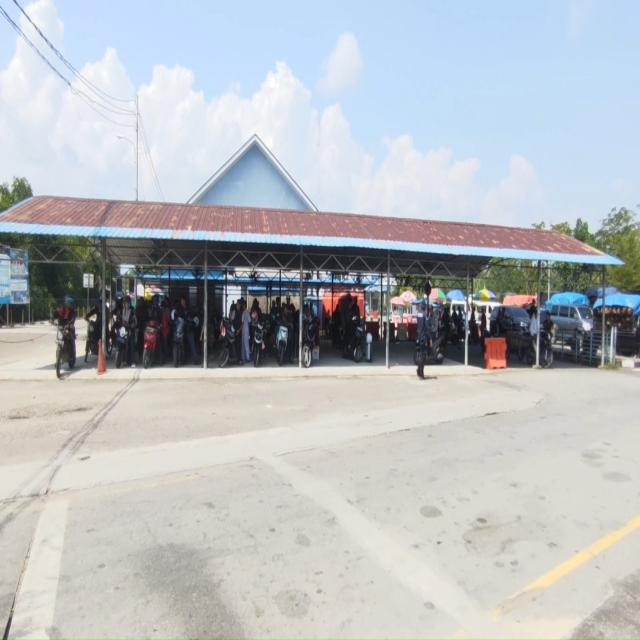Golongan II: (173, 316, 199, 368), (56, 319, 76, 379), (526, 330, 554, 369), (414, 332, 446, 366), (342, 316, 365, 363), (218, 318, 237, 368), (302, 318, 319, 368), (142, 320, 158, 370), (115, 322, 132, 368), (85, 317, 102, 363), (172, 317, 187, 367), (251, 321, 266, 367), (276, 326, 291, 366)
